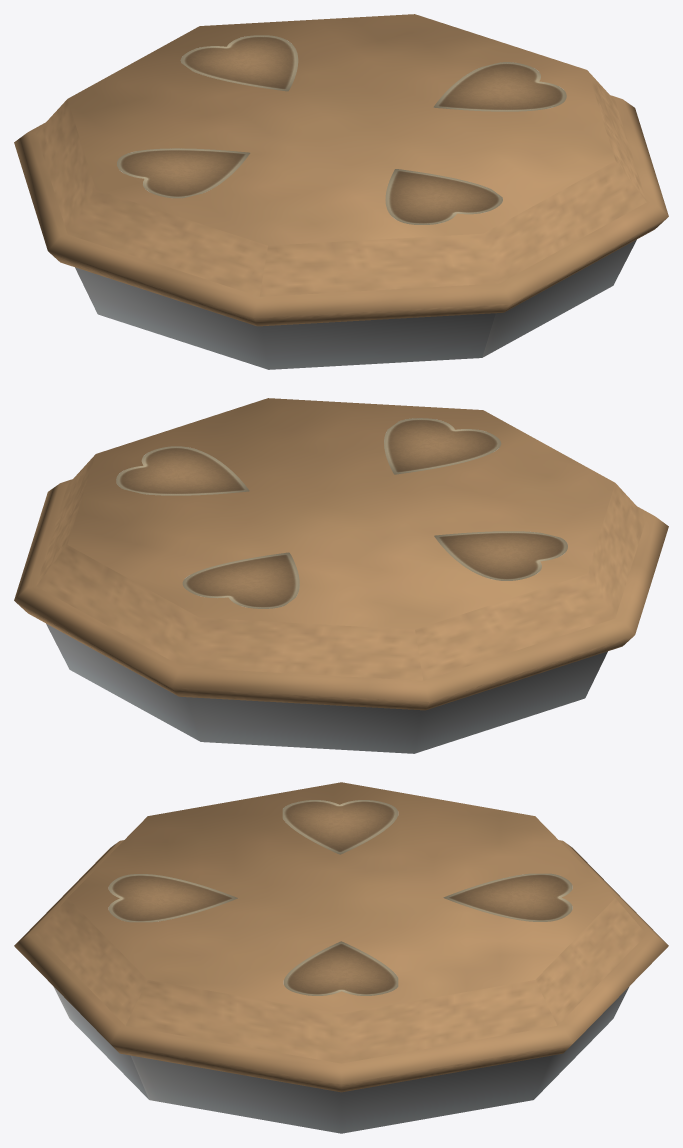
The model's file is Pie_A.FBX.
3 views of the same model, one above another, from view 1: azimuth 30°, elevation 25°; view 2: azimuth 150°, elevation 25°; view 3: azimuth 270°, elevation 25° (orthographic). The views are drawn at different scales.
Parts seen in each view (by area): view 1: Pie; view 2: Pie; view 3: Pie.
Boxes of the visible parts, x1,y1,x2,y2 form: Pie: (14,14,668,369); Pie: (14,398,668,753); Pie: (14,782,668,1133).
Size of the model in its own units: 116 by 23.68 by 116.
